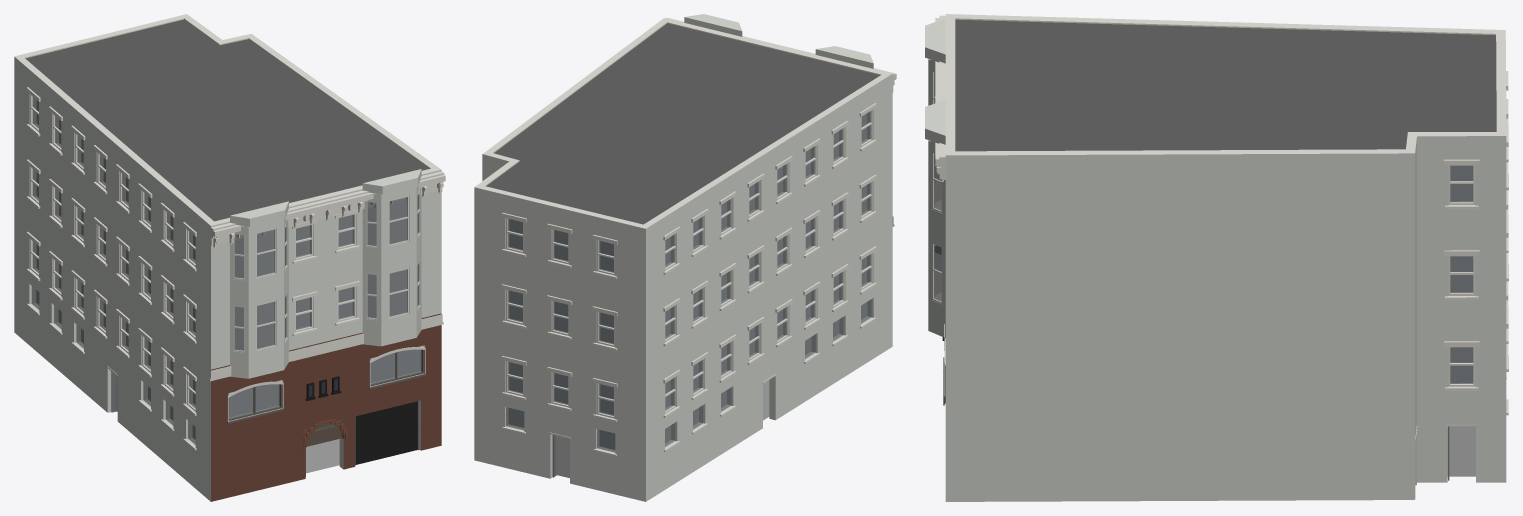
Rendered from exterior.glb.
3 views of the same model, side by side, from view 1: azimuth 30°, elevation 25°; view 2: azimuth 150°, elevation 25°; view 3: azimuth 270°, elevation 25° (orthographic). The views are drawn at different scales.
Visible parts, largest first — view 1: shell, roof, bay-windows, shadow-proxy, glazing, trim, bay-glazing, frames, storefront, front-dressing-r4, relief-5, hyC-arches-5; view 2: shell, roof, glazing, shadow-proxy, trim, frames, bay-windows; view 3: shell, roof, bay-windows, shadow-proxy, trim, glazing, bay-glazing, frames.
Part boxes in pixels (x1,y1,x2,y2): shell: [14, 14, 441, 501]; roof: [25, 19, 429, 221]; bay-windows: [230, 169, 421, 378]; shadow-proxy: [36, 101, 420, 473]; glazing: [32, 97, 421, 444]; trim: [26, 87, 445, 450]; bay-glazing: [233, 188, 420, 352]; frames: [30, 95, 423, 420]; storefront: [106, 366, 419, 476]; front-dressing-r4: [212, 182, 443, 446]; relief-5: [209, 314, 443, 381]; hyC-arches-5: [227, 345, 425, 421]; shell: [474, 18, 892, 501]; roof: [486, 23, 879, 224]; glazing: [506, 112, 871, 452]; shadow-proxy: [509, 113, 866, 478]; trim: [501, 17, 896, 456]; frames: [506, 110, 872, 418]; bay-windows: [684, 14, 873, 68]; shell: [945, 14, 1506, 501]; roof: [955, 19, 1496, 151]; bay-windows: [925, 18, 945, 337]; shadow-proxy: [1447, 166, 1475, 476]; trim: [935, 15, 1508, 415]; glazing: [1450, 165, 1473, 383]; bay-glazing: [931, 70, 942, 304]; frames: [1448, 165, 1475, 386].
Bounding box in the file's own units: 11.9 × 13.71 × 20.51.
